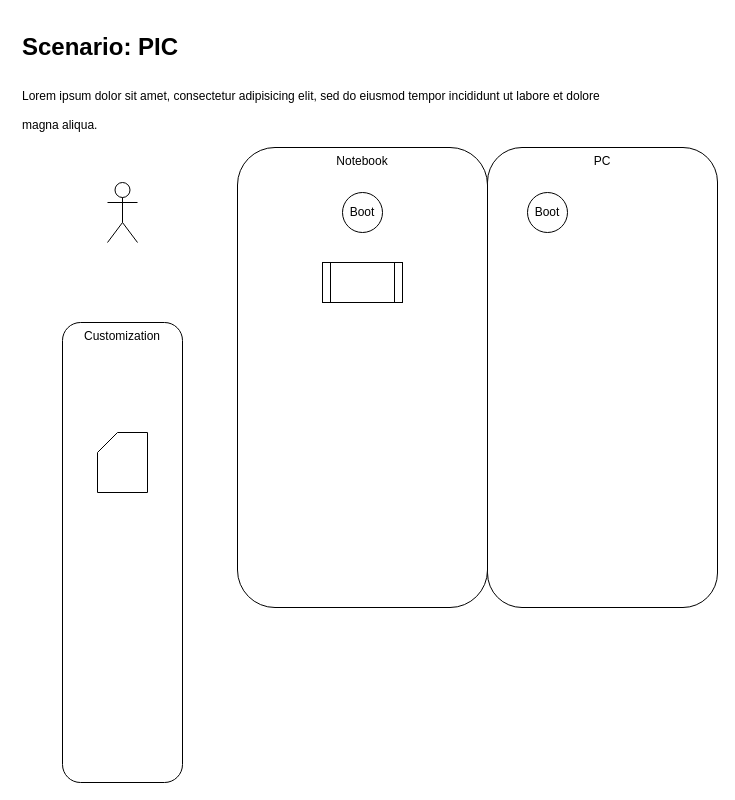
This 735x800 diagram has some shape labels left out. Each missing label, with the centre of its shape:
PIC: point 122,212
Press ": point 362,282
